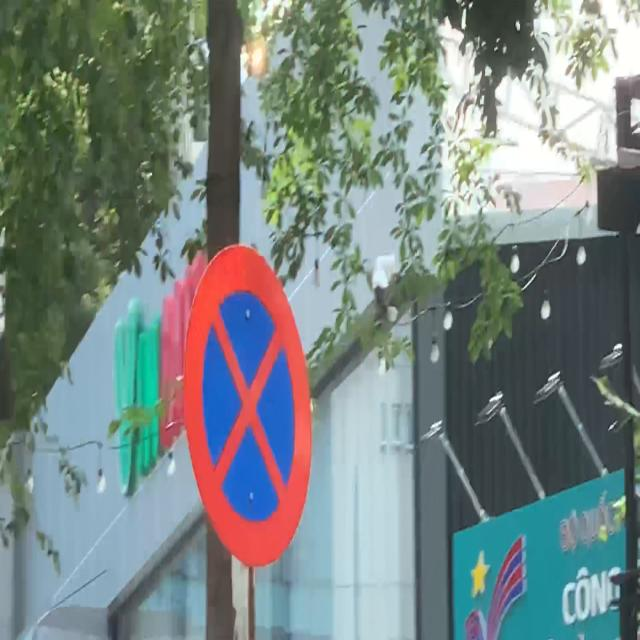Cam dung va do: (183, 243, 313, 567)
